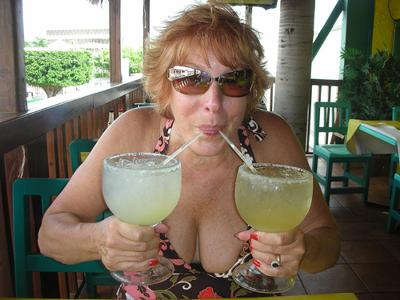person: (35, 2, 342, 300)
